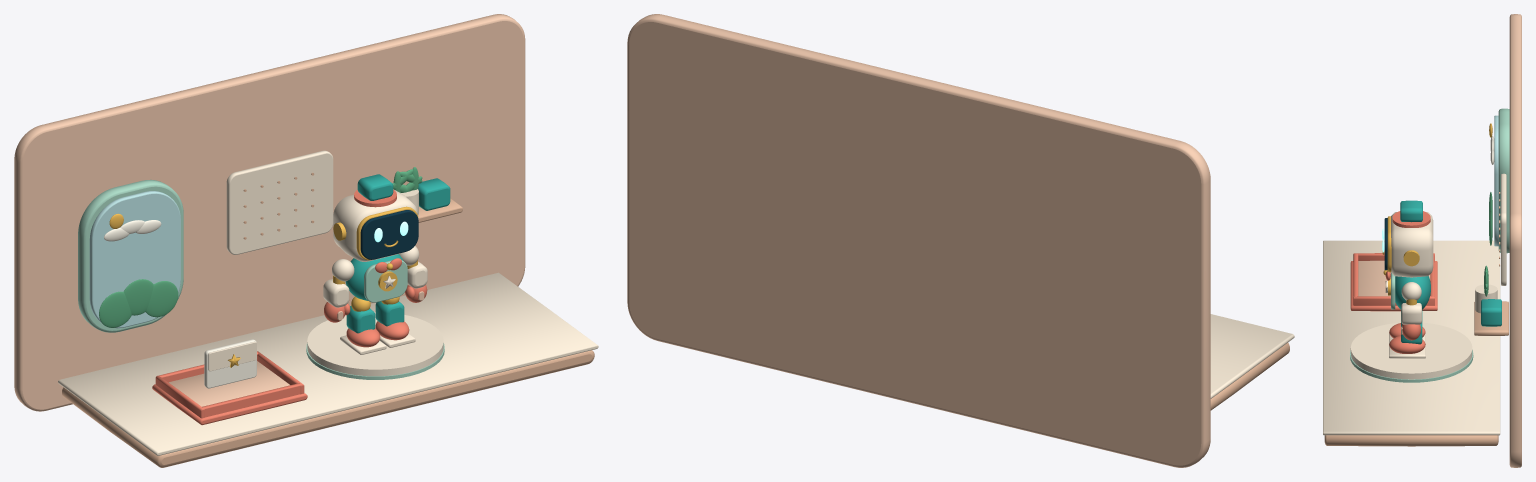
File: workshop.glb
3 views of the same model, side by side, from view 1: azimuth 30°, elevation 25°; view 2: azimuth 150°, elevation 25°; view 3: azimuth 270°, elevation 25° (orthographic). The views are drawn at different scales.
Parts seen in each view (by area): view 1: back-wall, bench-top, pegboard, window-glass, workbench, pedestal, window-frame, tray-inset, face-screen, head-shell, envelope-paper, tray-rim-end (+13 smaller); view 2: back-wall, bench-top, workbench; view 3: bench-top, back-wall, pedestal, head-shell, workbench, window-frame, tray-inset, tray-base, tray-rim-side (×2), torso-shell, pegboard, window-glass (+14 smaller).
Part boxes in pixels (x1=…): back-wall: x1=14, y1=14, x2=525, y2=411; bench-top: x1=58, y1=272, x2=598, y2=455; pegboard: x1=226, y1=150, x2=333, y2=254; window-glass: x1=89, y1=191, x2=180, y2=328; workbench: x1=62, y1=350, x2=594, y2=467; pedestal: x1=307, y1=312, x2=443, y2=376; window-frame: x1=78, y1=179, x2=183, y2=332; tray-inset: x1=169, y1=361, x2=289, y2=406; face-screen: x1=360, y1=210, x2=418, y2=259; head-shell: x1=333, y1=189, x2=417, y2=261; envelope-paper: x1=204, y1=339, x2=256, y2=388; tray-rim-end: x1=202, y1=383, x2=301, y2=417; back-wall: x1=627, y1=14, x2=1210, y2=467; bench-top: x1=1210, y1=314, x2=1294, y2=398; workbench: x1=1210, y1=343, x2=1289, y2=410; bench-top: x1=1323, y1=240, x2=1500, y2=435; back-wall: x1=1509, y1=14, x2=1521, y2=467; pedestal: x1=1350, y1=322, x2=1472, y2=379; head-shell: x1=1391, y1=212, x2=1433, y2=277; workbench: x1=1324, y1=435, x2=1498, y2=446; window-frame: x1=1498, y1=108, x2=1509, y2=253; tray-inset: x1=1358, y1=260, x2=1430, y2=296; tray-base: x1=1350, y1=261, x2=1437, y2=311; tray-rim-side (×2): x1=1353, y1=253, x2=1434, y2=305; torso-shell: x1=1395, y1=276, x2=1430, y2=309; pegboard: x1=1501, y1=173, x2=1506, y2=285; window-glass: x1=1494, y1=115, x2=1498, y2=246.
Size of the model in its own units: 15 by 8 by 5.72.
